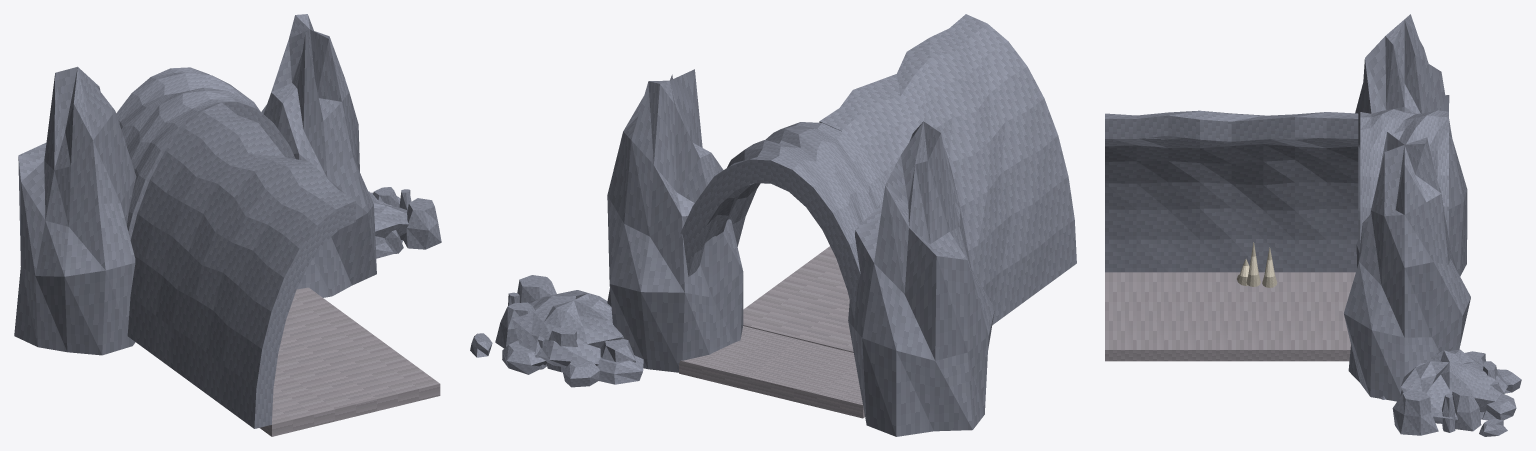
The model's file is cave-and-crystal-networks-daylight-entrance-a8adbe3e.glb.
The picture shows the model from 3 angles, left to right: view 1: azimuth 30°, elevation 25°; view 2: azimuth 150°, elevation 25°; view 3: azimuth 270°, elevation 25°; orthographic projection. The views are drawn at different scales.
Parts seen in each view (by area): view 1: 001-tunnel-cutaway/0, 000-cliff-cave-mouth/2, 000-cliff-cave-mouth/3, 001-tunnel-cutaway/1, 000-cliff-cave-mouth/0, 002-breakdown-pile/11, 002-breakdown-pile/0; view 2: 001-tunnel-cutaway/0, 000-cliff-cave-mouth/2, 000-cliff-cave-mouth/3, 000-cliff-cave-mouth/0, 000-cliff-cave-mouth/1, 001-tunnel-cutaway/1, 002-breakdown-pile/0, 002-breakdown-pile/20, 002-breakdown-pile/8, 002-breakdown-pile/16, 002-breakdown-pile/11, 002-breakdown-pile/1 (+1 smaller); view 3: 001-tunnel-cutaway/0, 000-cliff-cave-mouth/3, 001-tunnel-cutaway/1, 000-cliff-cave-mouth/2, 000-cliff-cave-mouth/0, 002-breakdown-pile/0, 002-breakdown-pile/11, 002-breakdown-pile/16, 002-breakdown-pile/8, 002-breakdown-pile/2.
Part boxes in pixels (x1,y1,x2,y2): 001-tunnel-cutaway/0: [127, 102, 355, 428]; 000-cliff-cave-mouth/2: [14, 66, 136, 355]; 000-cliff-cave-mouth/3: [261, 14, 376, 297]; 001-tunnel-cutaway/1: [260, 287, 440, 436]; 000-cliff-cave-mouth/0: [116, 67, 295, 239]; 002-breakdown-pile/11: [403, 198, 441, 249]; 002-breakdown-pile/0: [368, 191, 408, 258]; 001-tunnel-cutaway/0: [819, 14, 1076, 324]; 000-cliff-cave-mouth/2: [848, 121, 994, 436]; 000-cliff-cave-mouth/3: [607, 69, 743, 372]; 000-cliff-cave-mouth/0: [680, 122, 886, 318]; 000-cliff-cave-mouth/1: [679, 326, 864, 418]; 001-tunnel-cutaway/1: [743, 246, 853, 352]; 002-breakdown-pile/0: [512, 290, 624, 368]; 002-breakdown-pile/20: [597, 355, 643, 384]; 002-breakdown-pile/8: [502, 340, 546, 374]; 002-breakdown-pile/16: [495, 302, 534, 348]; 002-breakdown-pile/11: [517, 275, 556, 303]; 002-breakdown-pile/1: [562, 360, 599, 387]; 001-tunnel-cutaway/0: [1105, 110, 1358, 272]; 000-cliff-cave-mouth/3: [1344, 132, 1470, 401]; 001-tunnel-cutaway/1: [1105, 272, 1355, 361]; 000-cliff-cave-mouth/2: [1355, 14, 1467, 276]; 000-cliff-cave-mouth/0: [1360, 109, 1448, 242]; 002-breakdown-pile/0: [1401, 349, 1507, 423]; 002-breakdown-pile/11: [1392, 390, 1438, 435]; 002-breakdown-pile/16: [1452, 388, 1481, 431]; 002-breakdown-pile/8: [1482, 393, 1516, 420]; 002-breakdown-pile/2: [1442, 393, 1455, 432].
Bounding box in the file's own units: 7.3 × 4.32 × 6.58.
Materials: 3 (3 with a texture image).
